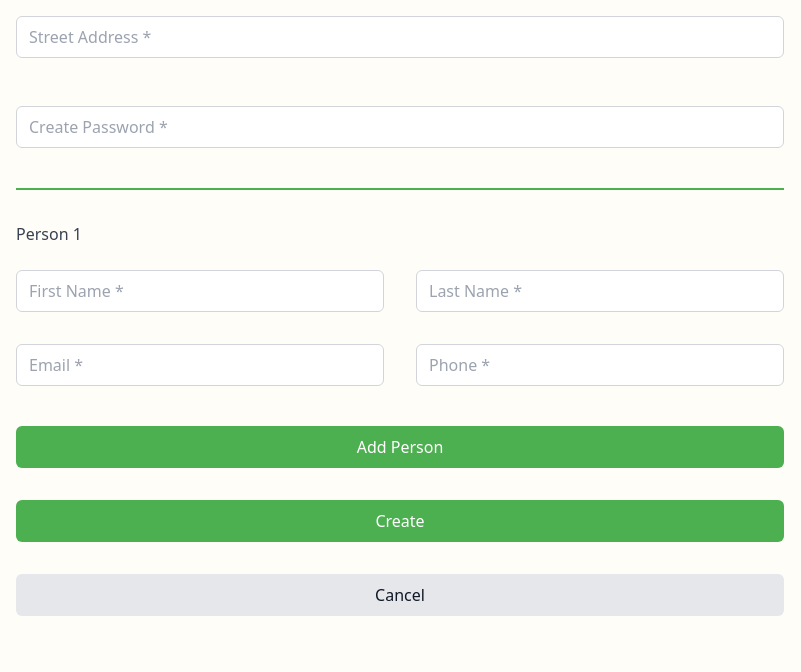
Test: SignUpForm › adds and removes second person section
The width and height of the screenshot is (801, 672).
Check: the heading "Person 1" is shown, box top-left (16, 222), bottom-right (82, 246)
Check: the heading "person 2" is not shown
What coordinates should you click on to do the following:
click the button "Add Person"
I would click on:
 (400, 447)
Its box is top-left (16, 426), bottom-right (784, 468).
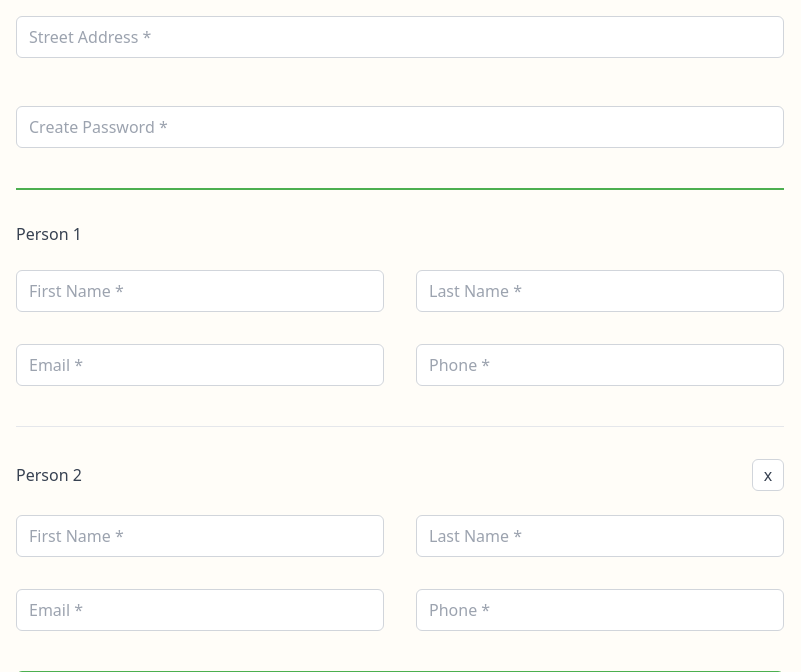
Check: the heading "Person 2" is shown, box top-left (16, 463), bottom-right (82, 487)
Check: the button "Add Person" is gone
What coordinates should you click on to do the following:
click the button named "remove second person"
I would click on:
 (768, 475)
Its box is top-left (752, 459), bottom-right (784, 491).
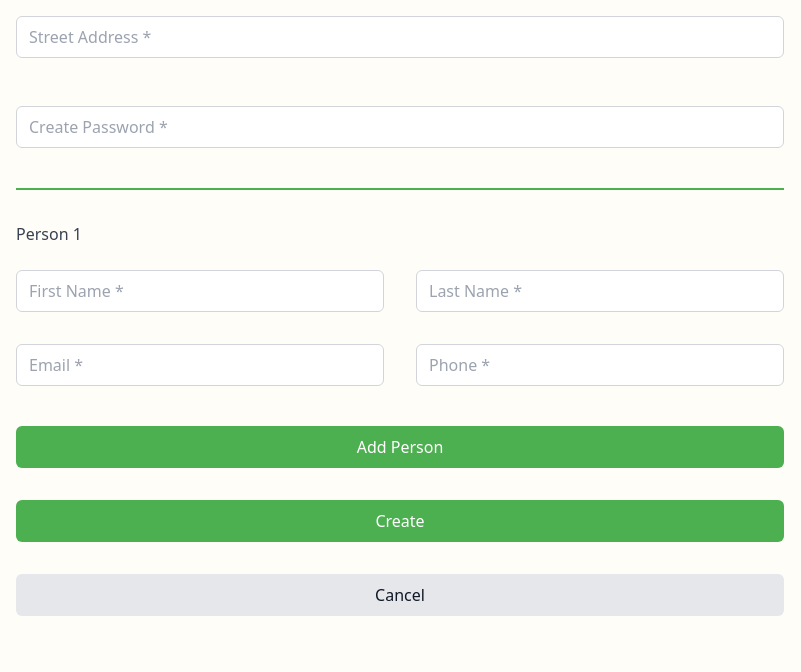
Check: the heading "Person 2" is gone
Check: the button "Add Person" is shown, box top-left (16, 426), bottom-right (784, 468)
